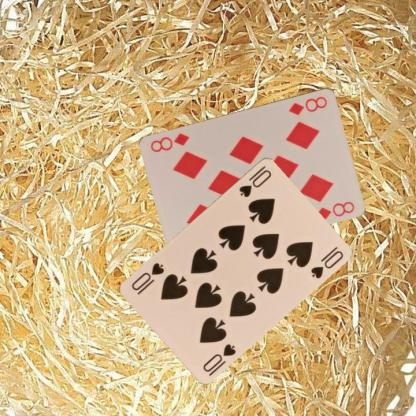10s: (236, 162, 272, 199), (200, 340, 237, 374)
8d: (286, 93, 329, 116)
